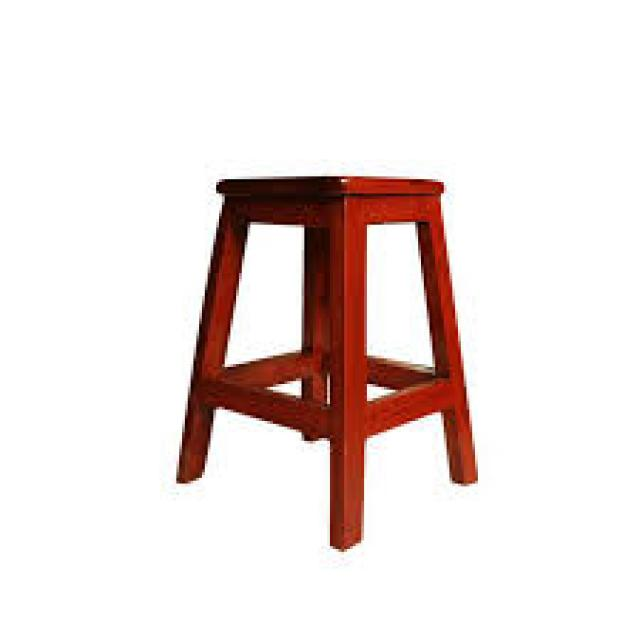chair: (174, 176, 480, 551)
